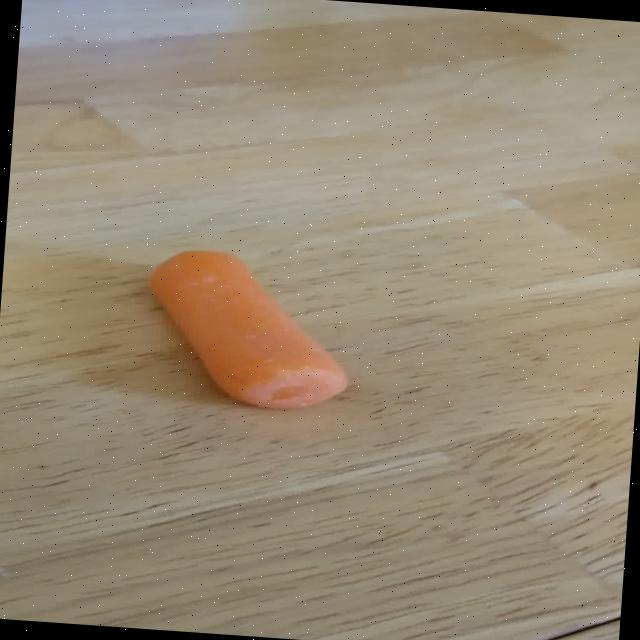carrot: (151, 250, 346, 407)
